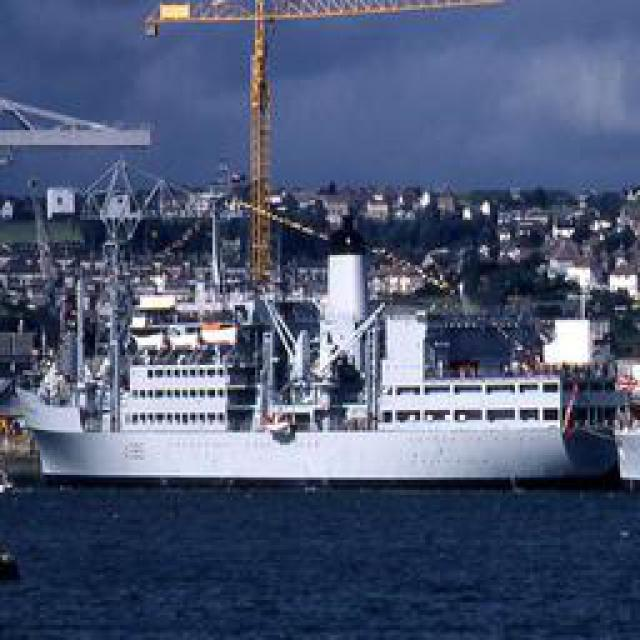Ship: (15, 222, 638, 492)
